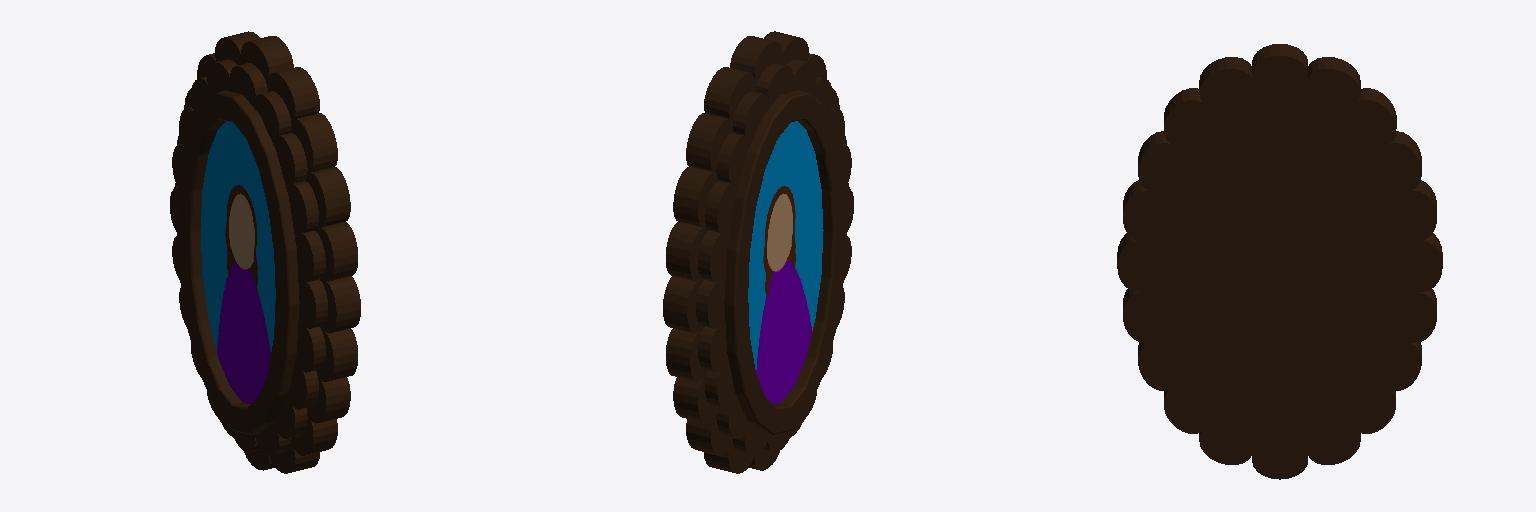
The picture shows the model from 3 angles: view 1: azimuth 30°, elevation 25°; view 2: azimuth 150°, elevation 25°; view 3: azimuth 270°, elevation 25°; orthographic projection.
Parts seen in each view (by area): view 1: pCylinder27; view 2: pCylinder27; view 3: pCylinder27.
Boxes of the visible parts, box(x1,y1,x2,y2) form: pCylinder27: box(170, 31, 360, 473); pCylinder27: box(663, 31, 853, 473); pCylinder27: box(1117, 44, 1442, 479).
Bounding box in the file's own units: 0.1943 × 1.65 × 1.15.
1 materials, 1 textured.